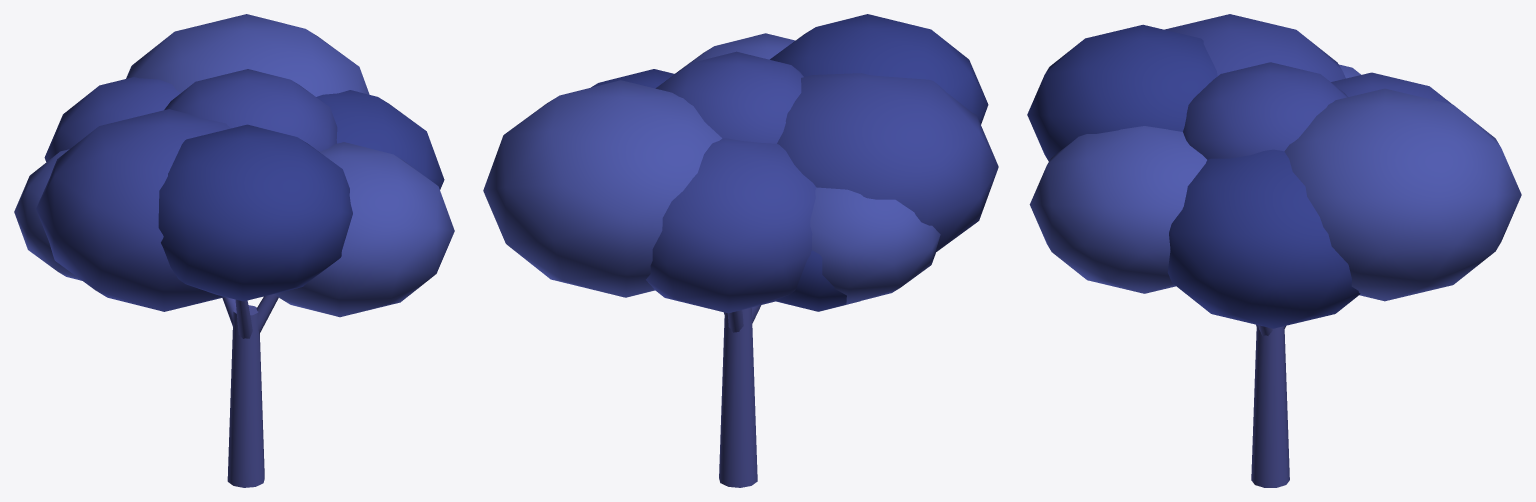
Rendered from ficus.glb.
The picture shows the model from 3 angles, left to right: view 1: azimuth 30°, elevation 25°; view 2: azimuth 150°, elevation 25°; view 3: azimuth 270°, elevation 25°; orthographic projection. The views are drawn at different scales.
Visible parts, largest first — view 1: baked1, baked3, baked2, baked0; view 2: baked1, baked2, baked3, baked0; view 3: baked2, baked3, baked1, baked0.
Boxes of the visible parts, x1,y1,x2,y2 form: baked1: (36,69,337,311); baked3: (158,90,444,301); baked2: (14,14,454,317); baked0: (222,294,278,487); baked1: (646,51,998,313); baked2: (483,33,940,303); baked3: (591,14,988,311); baked0: (719,305,761,487); baked2: (1029,64,1521,301); baked3: (1027,24,1360,328); baked1: (1164,14,1452,159); baked0: (1251,324,1289,487).
Bounding box in the file's own units: 7.7 × 7.48 × 8.19.
